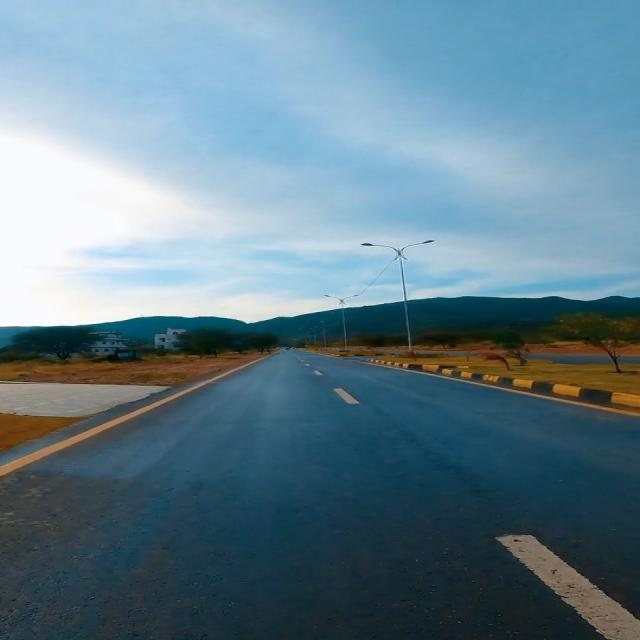asphalt: (0, 351, 639, 639)
